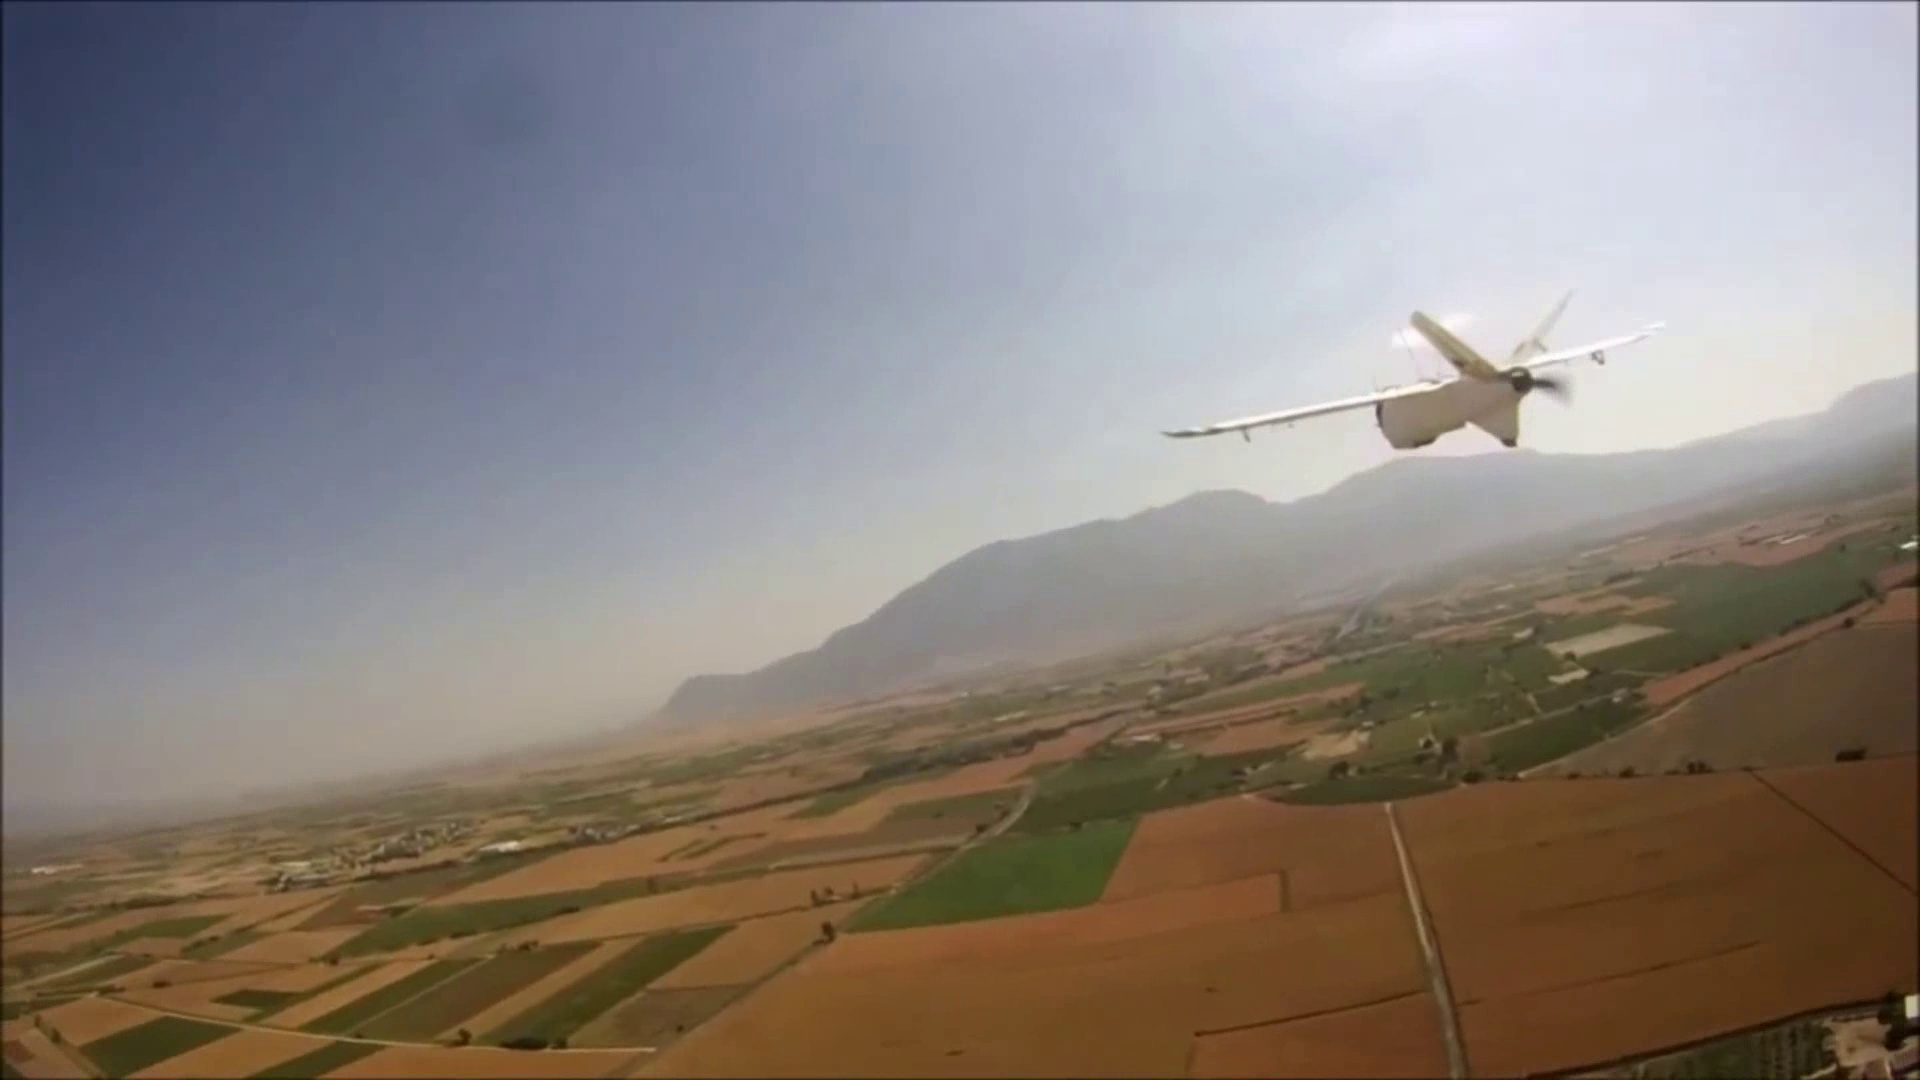airplane: (1164, 289, 1666, 458)
